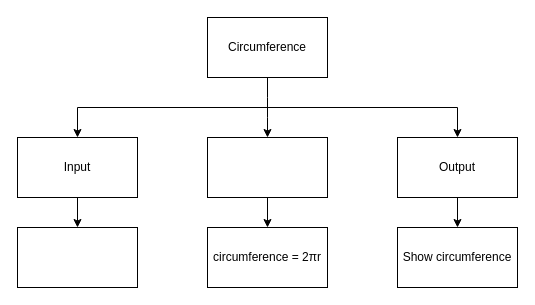
This 535x305 diagram has some shape labels left out. The shapes that lost their labels are listed below. From the top down, each one's box as (x1, y1, x2, y2) in pixels, then its label:
(206, 136, 328, 198): Process
(16, 226, 138, 288): Get radius
